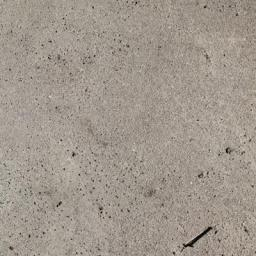FOD: (182, 225, 216, 252)
